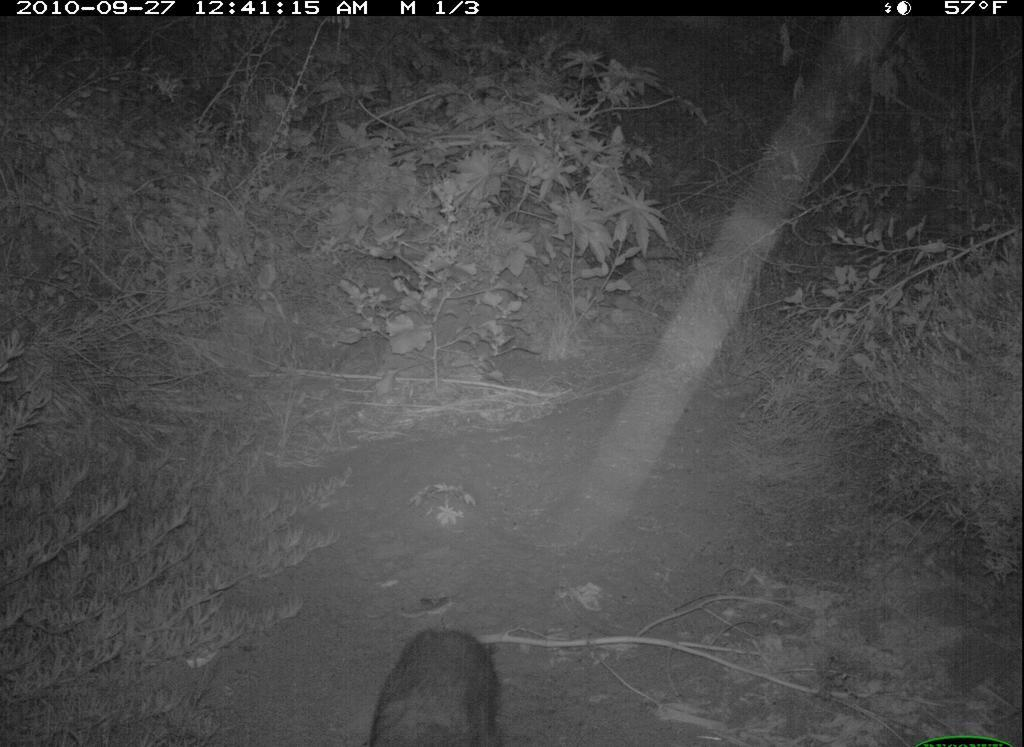raccoon: (356, 615, 501, 747)
